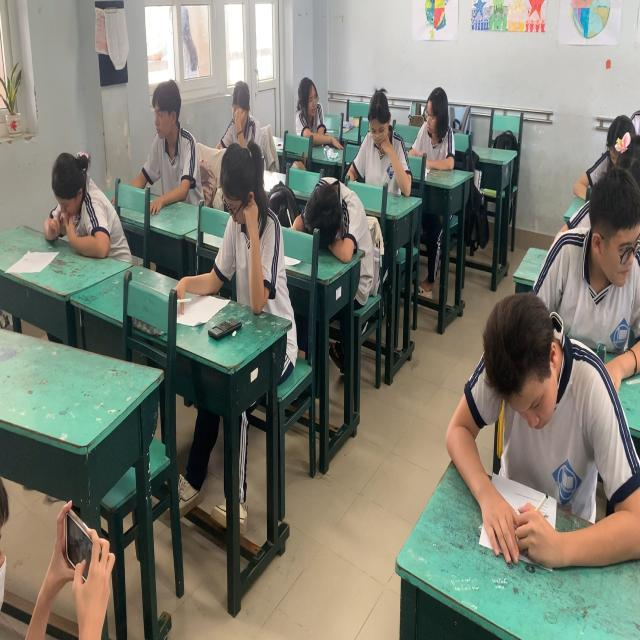cheating: (544, 174, 640, 357), (286, 80, 347, 160)
not_cheating: (445, 288, 640, 588), (42, 146, 130, 285), (208, 146, 284, 305), (352, 80, 407, 201), (142, 81, 197, 191), (409, 66, 461, 174), (226, 63, 253, 153)
